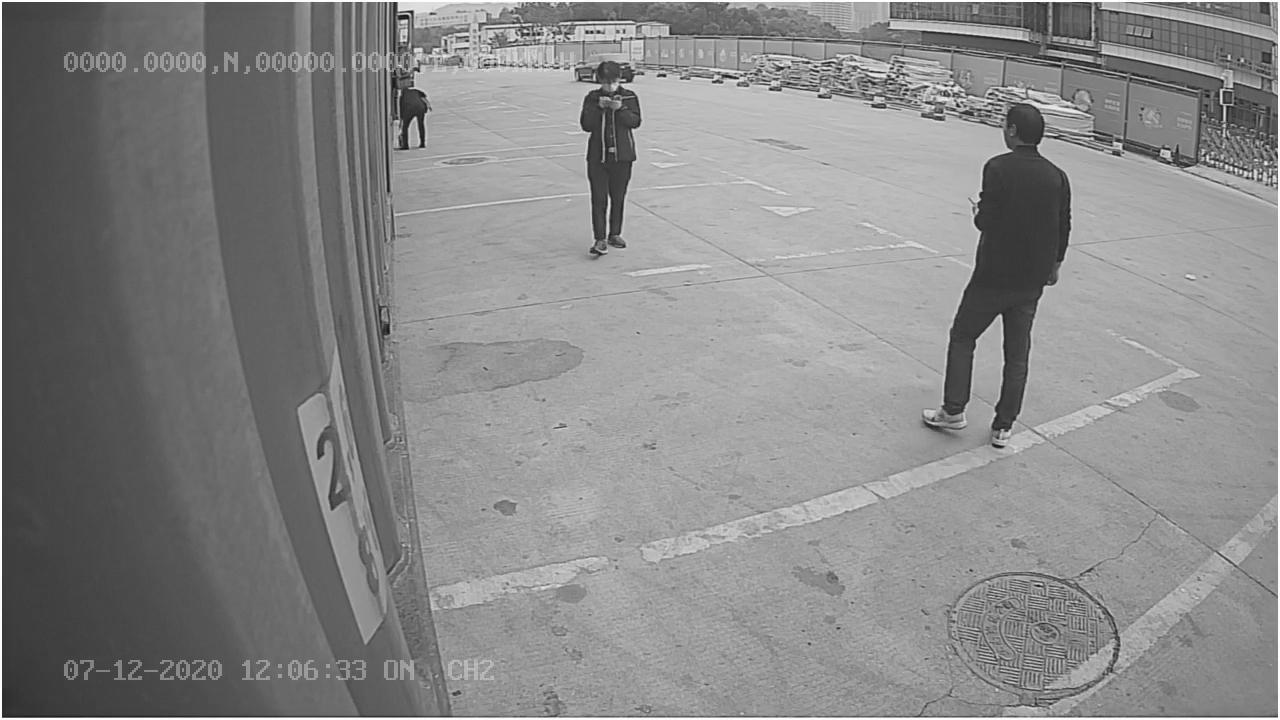person: (924, 100, 1071, 449)
